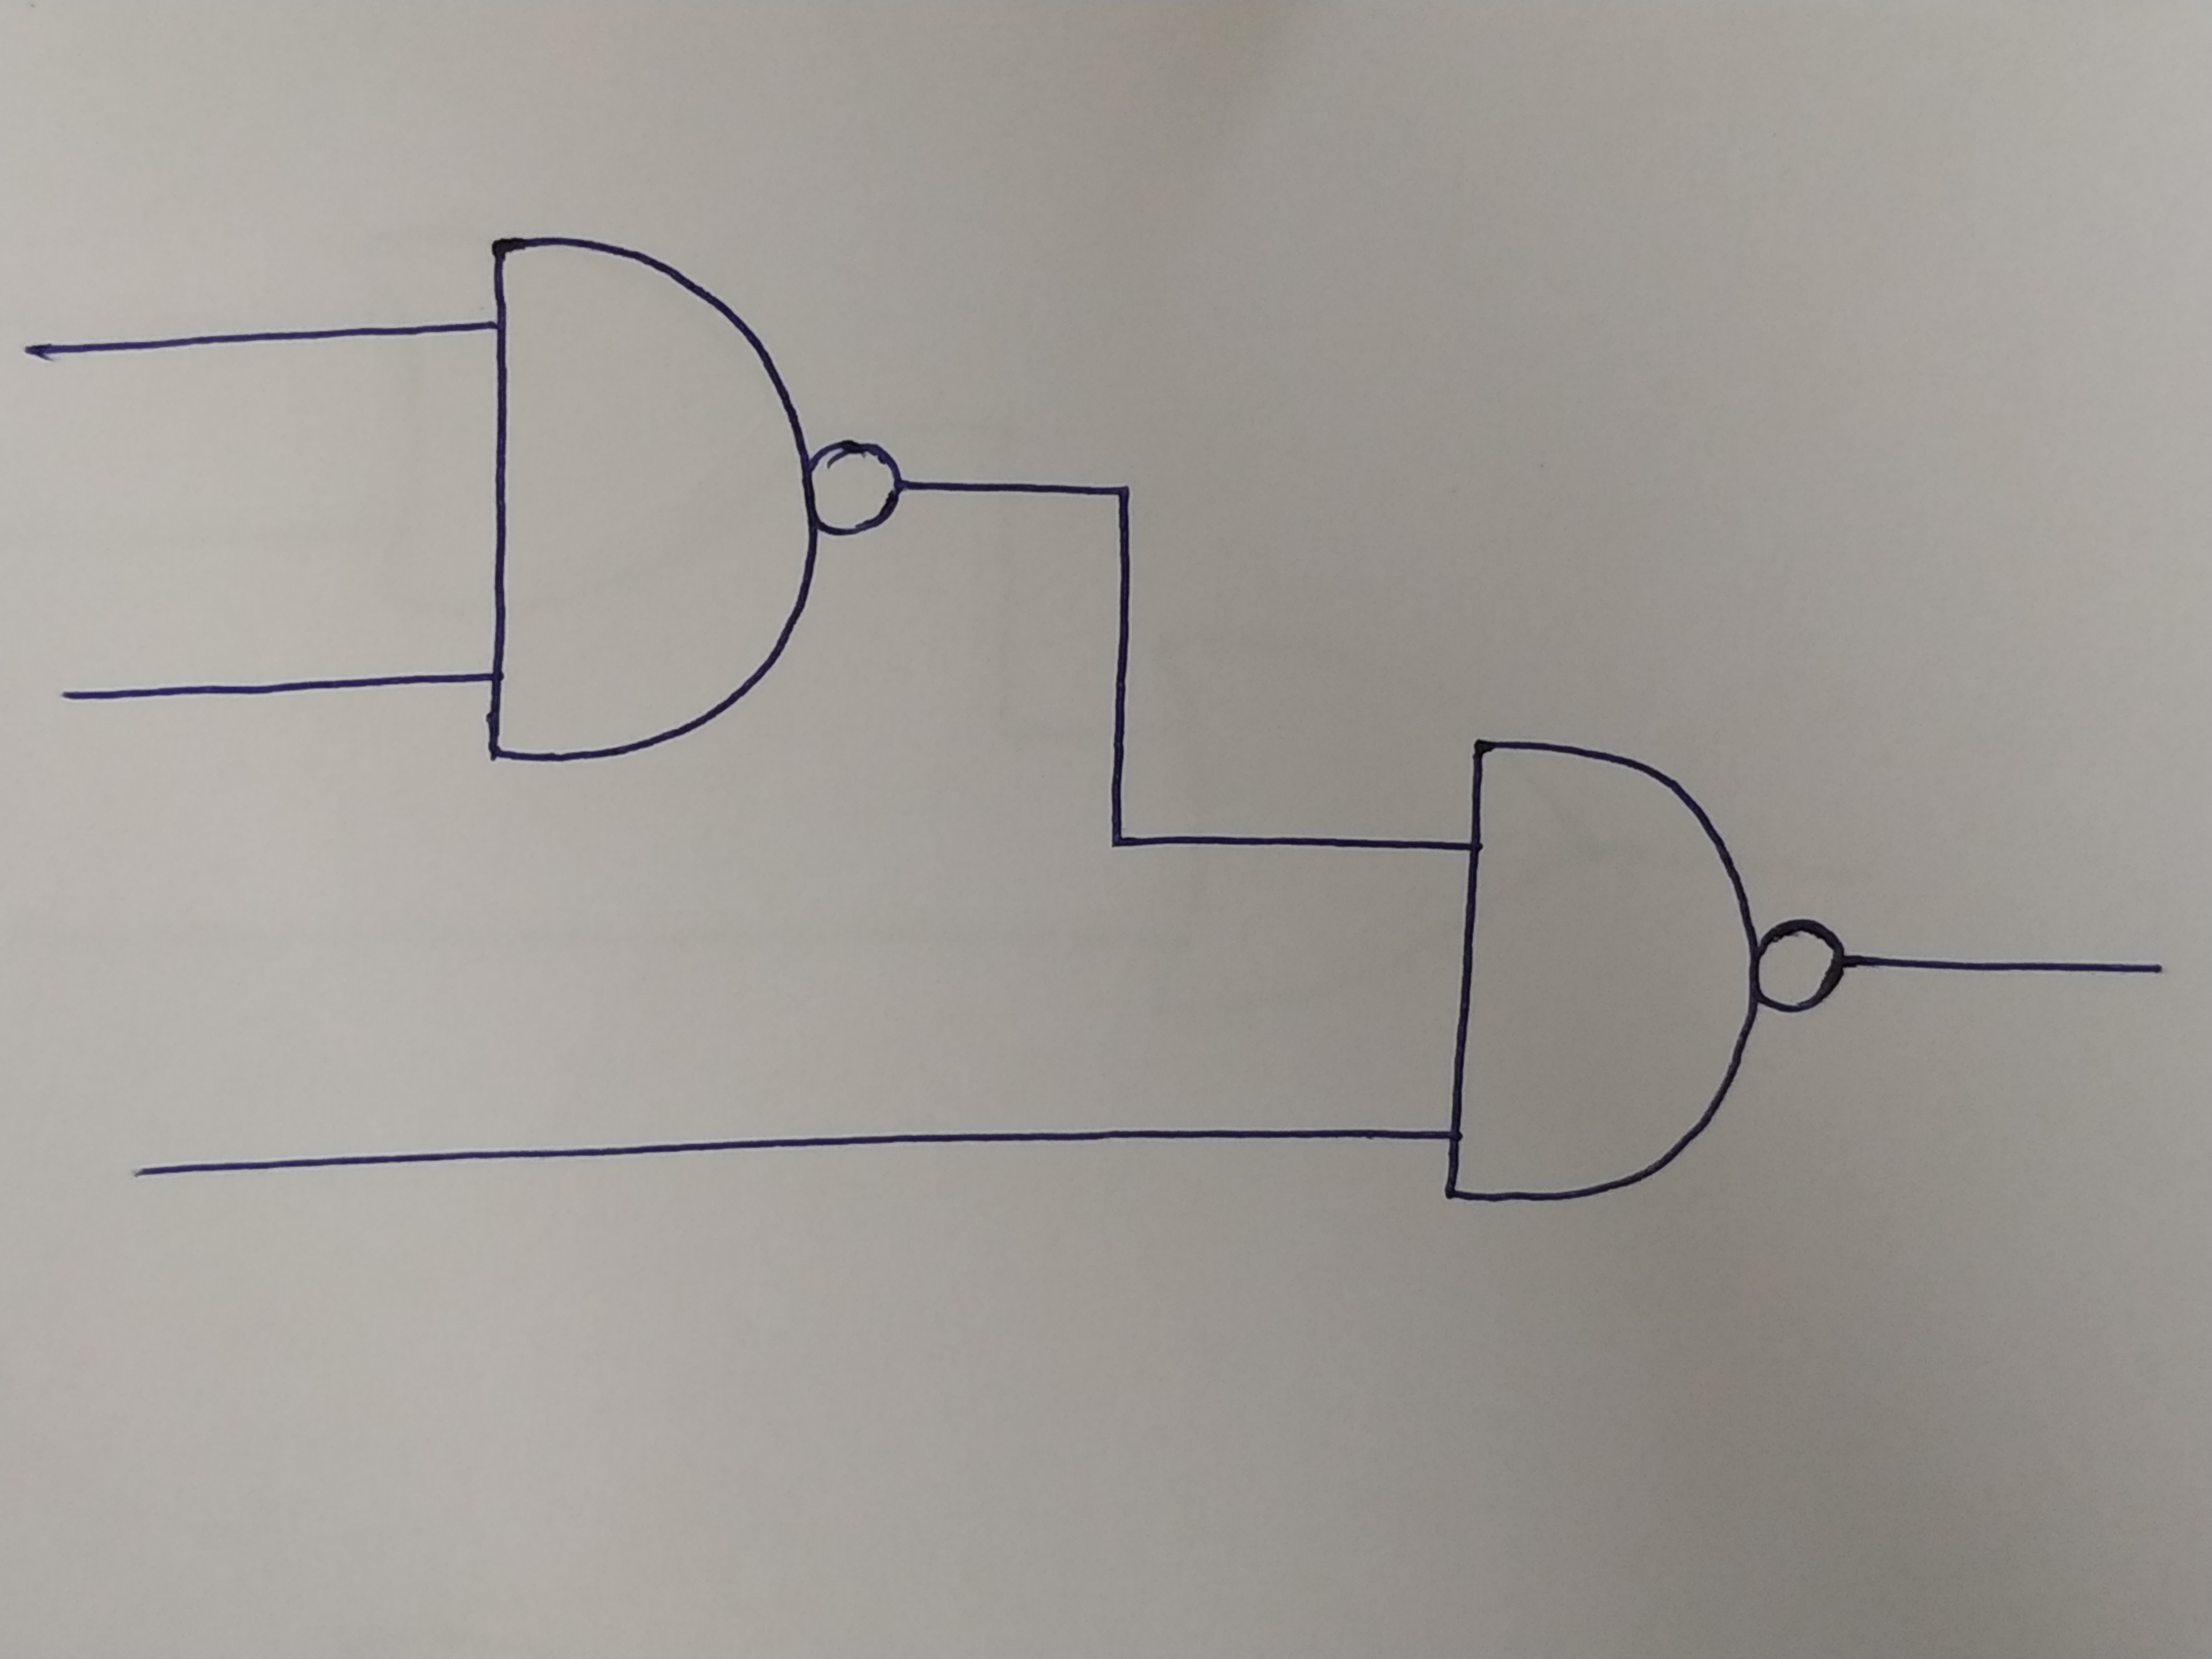and: (488, 230, 812, 758), (1447, 742, 1759, 1201)
not: (812, 446, 900, 530), (1759, 918, 1838, 1007)
